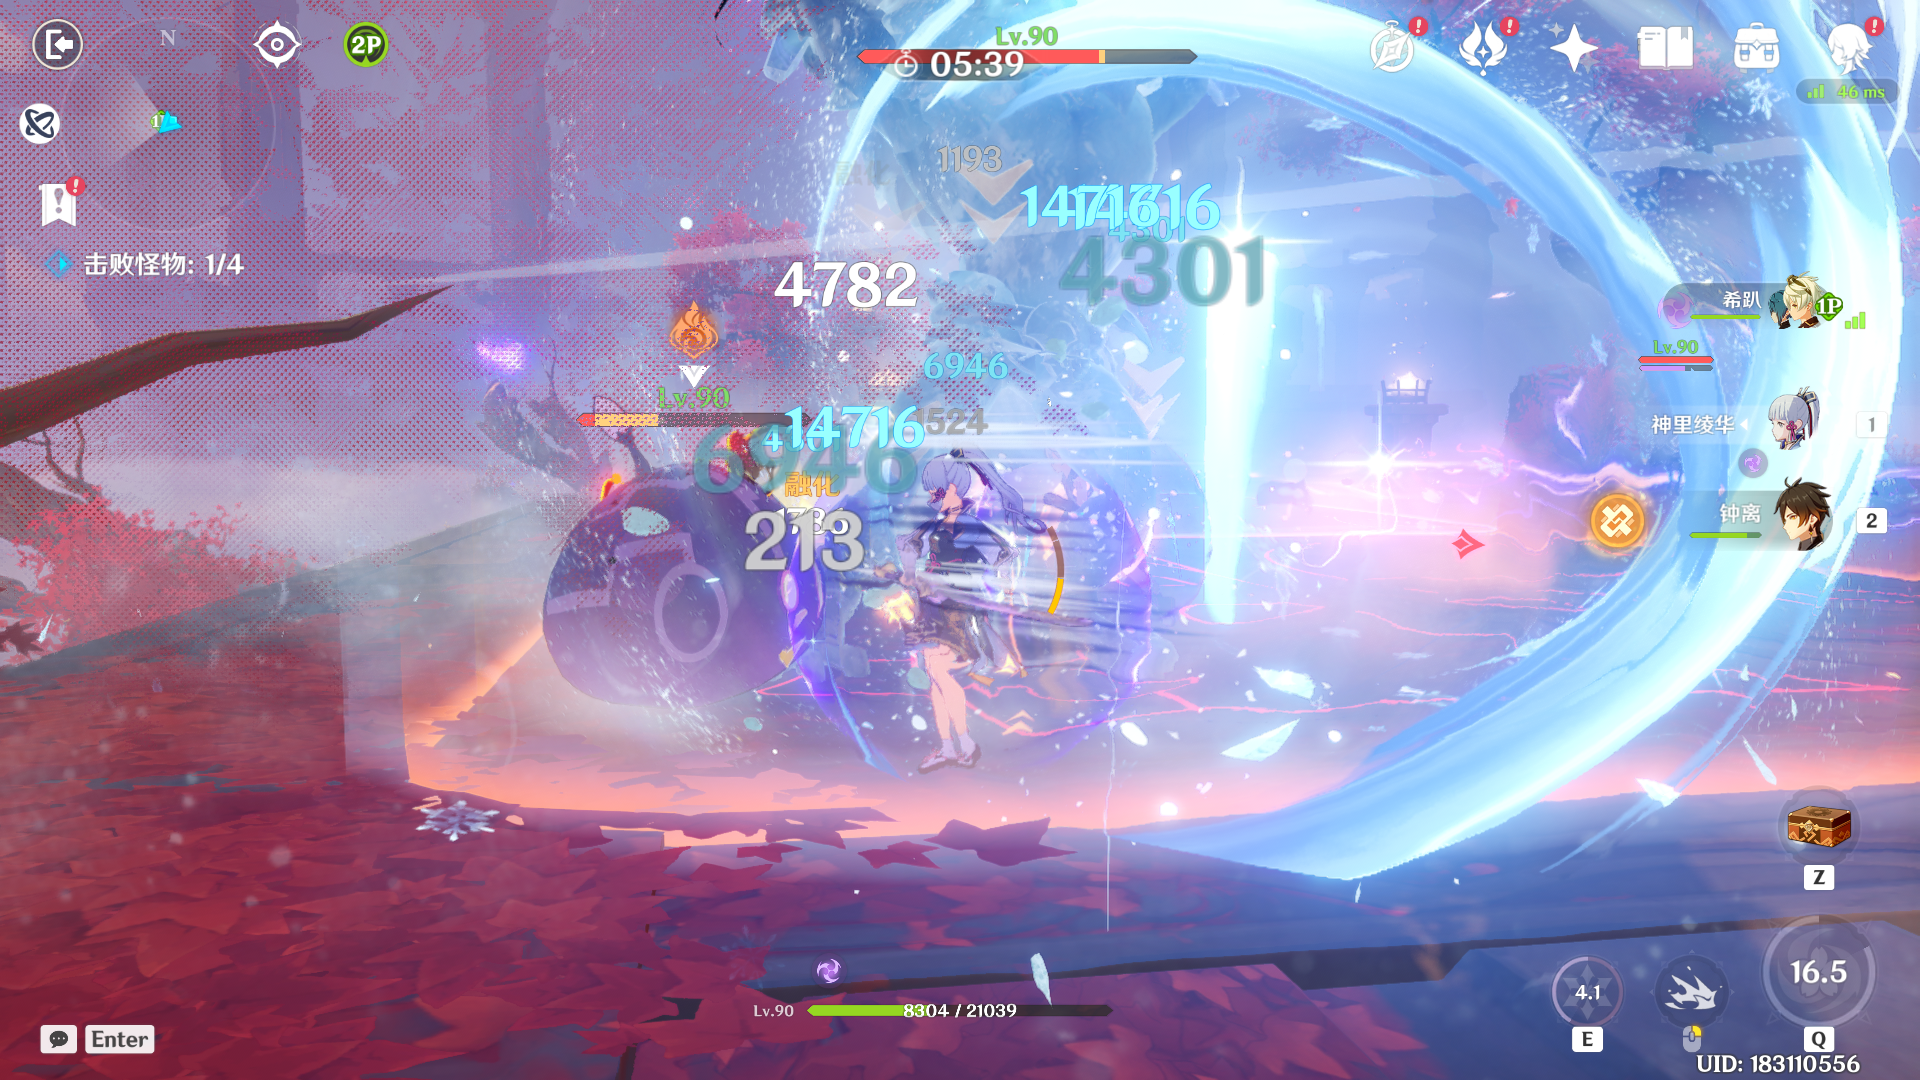character: (862, 419, 1059, 787)
slime: (543, 429, 836, 764)
